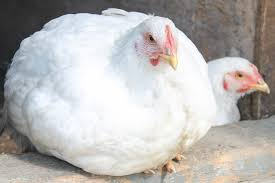chicken: (5, 3, 210, 177)
